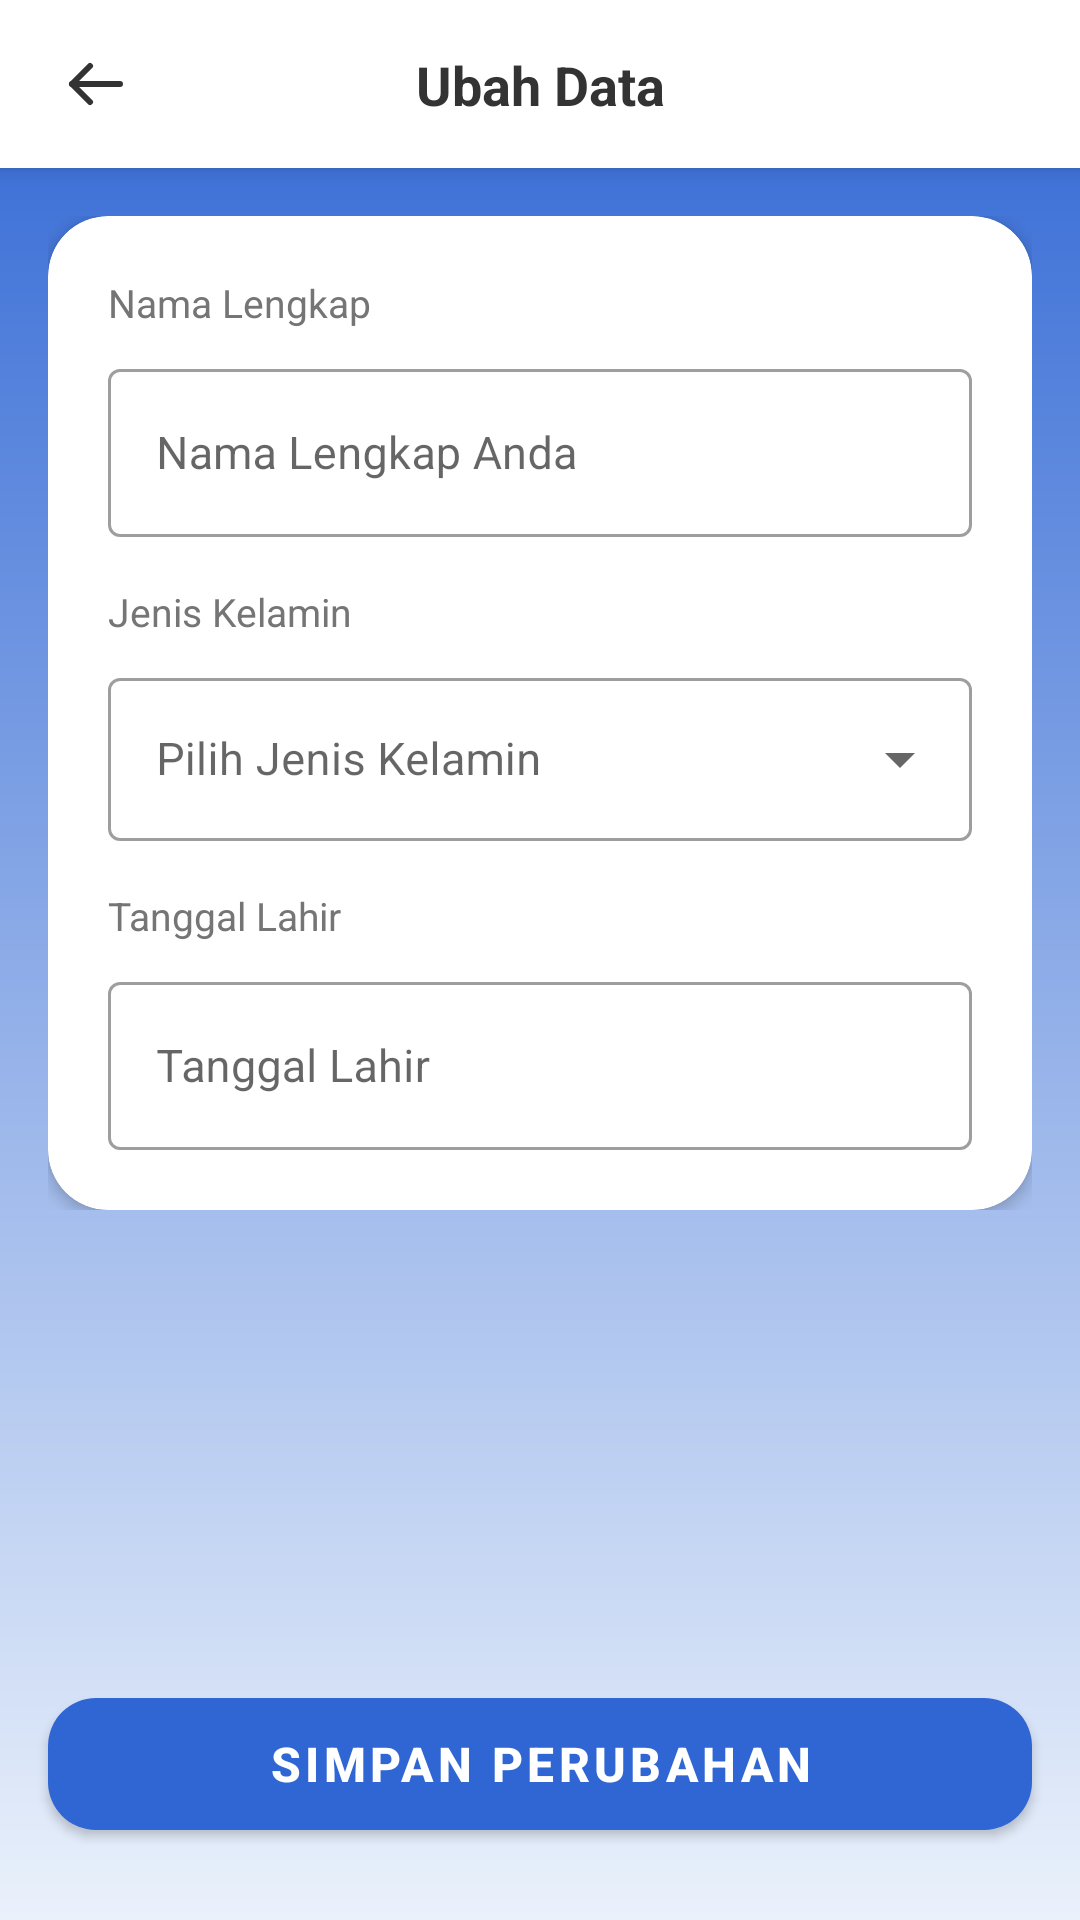

Point at icon controls on the screen. Image size 1080*1920, points as (x,y).
Kembali: (96,84)
